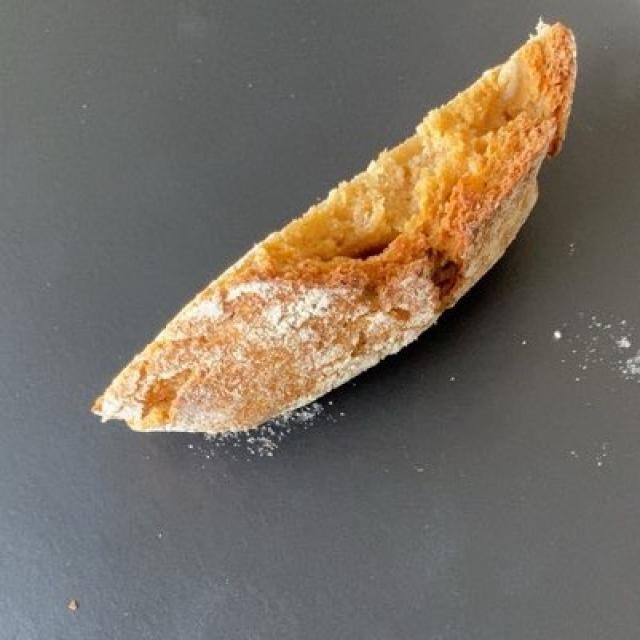bread: (106, 39, 572, 428)
